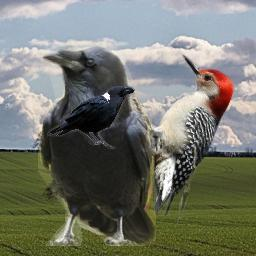Crow: (38, 45, 156, 246), (47, 86, 135, 150)
Woodpecker: (121, 51, 239, 224)
